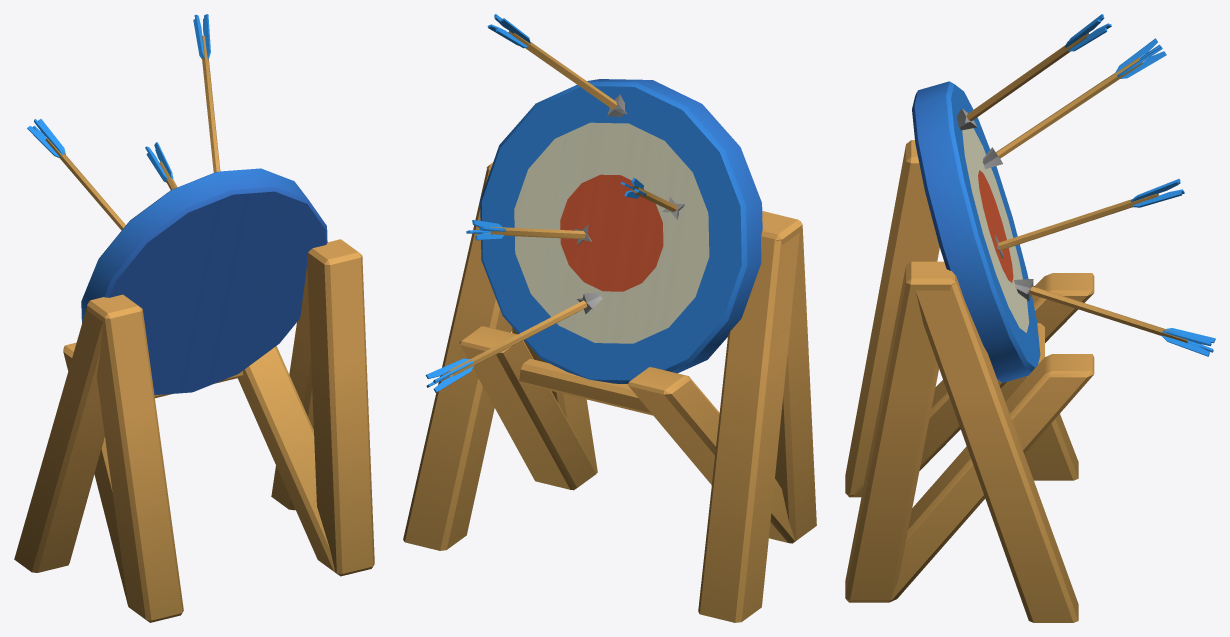
The model's file is Target+2.fbx.
The picture shows the model from 3 angles, left to right: view 1: azimuth 30°, elevation 25°; view 2: azimuth 150°, elevation 25°; view 3: azimuth 270°, elevation 25°; orthographic projection. The views are drawn at different scales.
Visible parts, largest first — view 1: Target 2; view 2: Target 2; view 3: Target 2.
Boxes of the visible parts, x1=… form: Target 2: x1=14, y1=14, x2=374, y2=622; Target 2: x1=403, y1=14, x2=816, y2=622; Target 2: x1=845, y1=14, x2=1215, y2=622.
Bounding box in the file's own units: 72.05 × 114 × 69.11.
